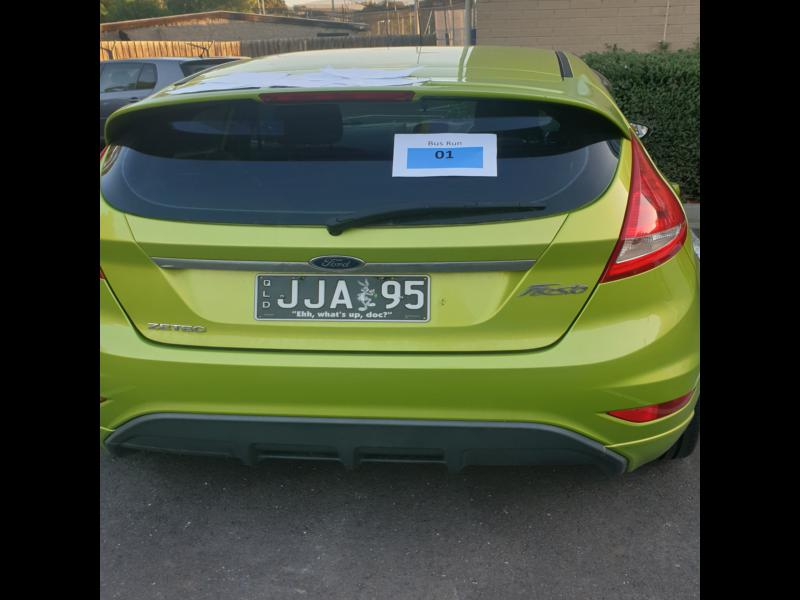BusRun: (406, 145, 485, 170)
PlateNo: (254, 272, 430, 324)
